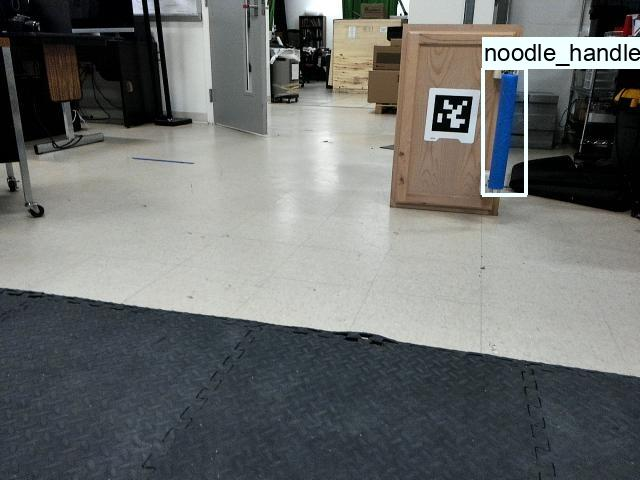noodle_handle: (482, 70, 521, 193)
